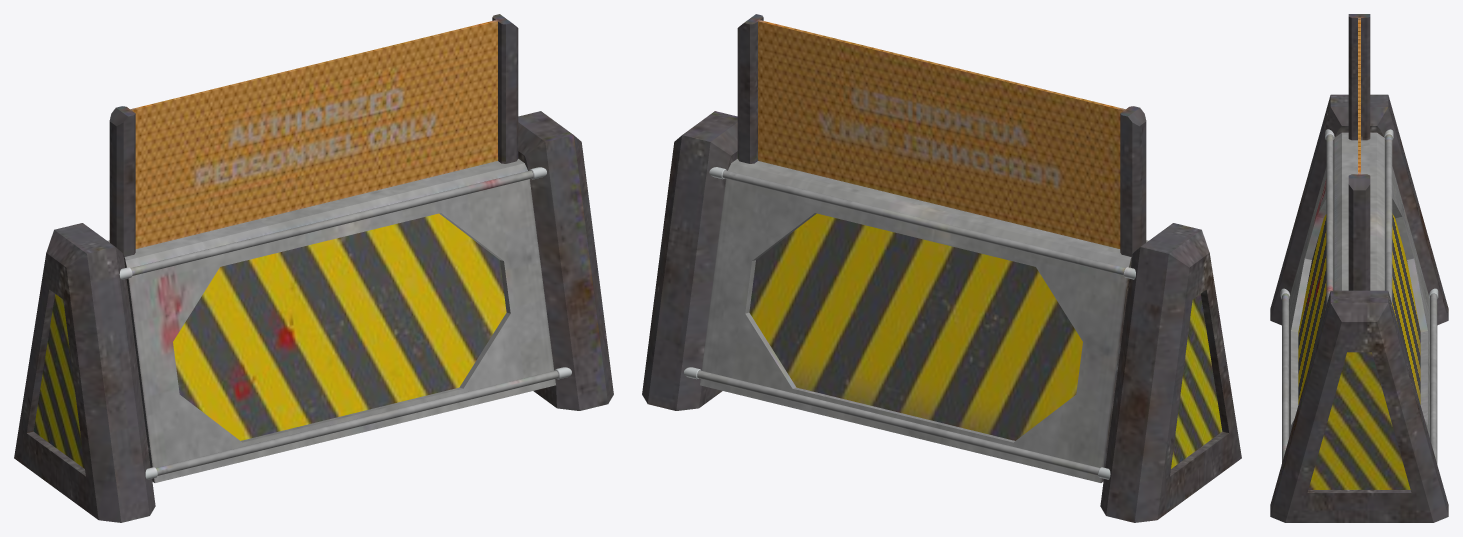
The model's file is turret_barricade.glb.
3 views of the same model, side by side, from view 1: azimuth 30°, elevation 25°; view 2: azimuth 150°, elevation 25°; view 3: azimuth 270°, elevation 25° (orthographic). The views are drawn at different scales.
Visible parts, largest first — view 1: Object_2; view 2: Object_2; view 3: Object_2.
Boxes of the visible parts, <box> form: Object_2: <box>14,14,613,522</box>; Object_2: <box>642,14,1241,522</box>; Object_2: <box>1270,14,1448,522</box>.
Bounding box in the file's own units: 3.83 × 2.56 × 1.31.
1 material, 1 textured.
